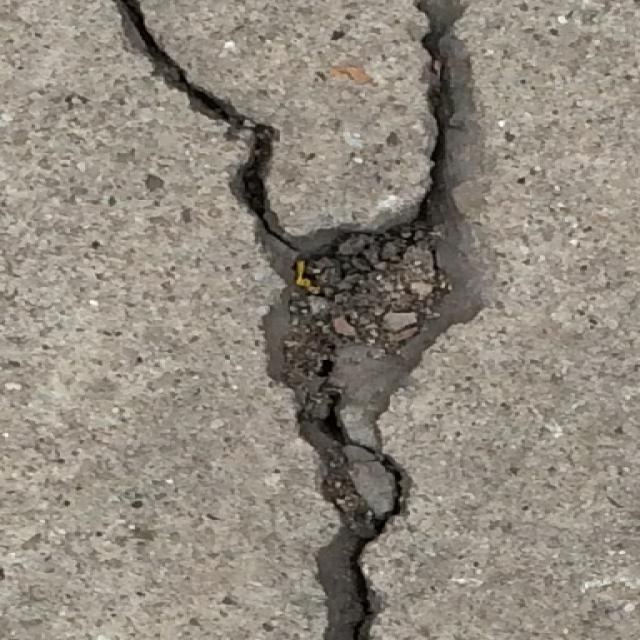Longitudinal: (273, 292, 436, 640)
Turtle-shell patterned: (108, 0, 471, 266)
